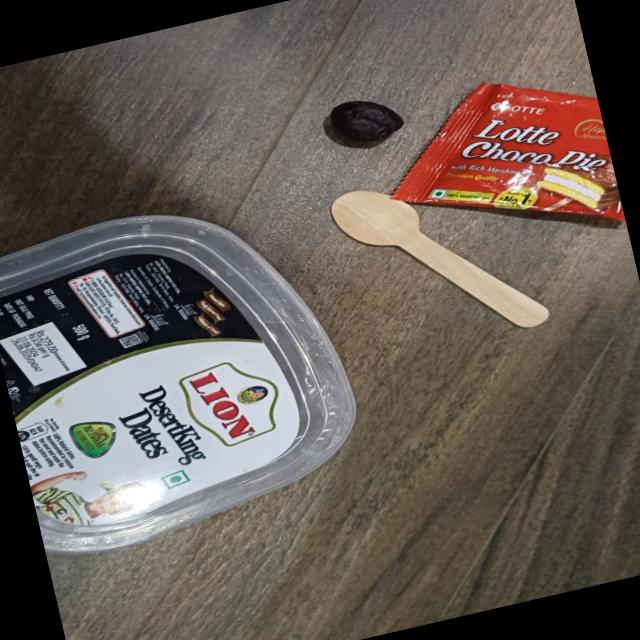Date-Bio: (300, 90, 404, 160)
Plastic-NonBio: (0, 171, 388, 568), (384, 58, 626, 272)
Wooden Spoon-Bio: (322, 154, 552, 366)
